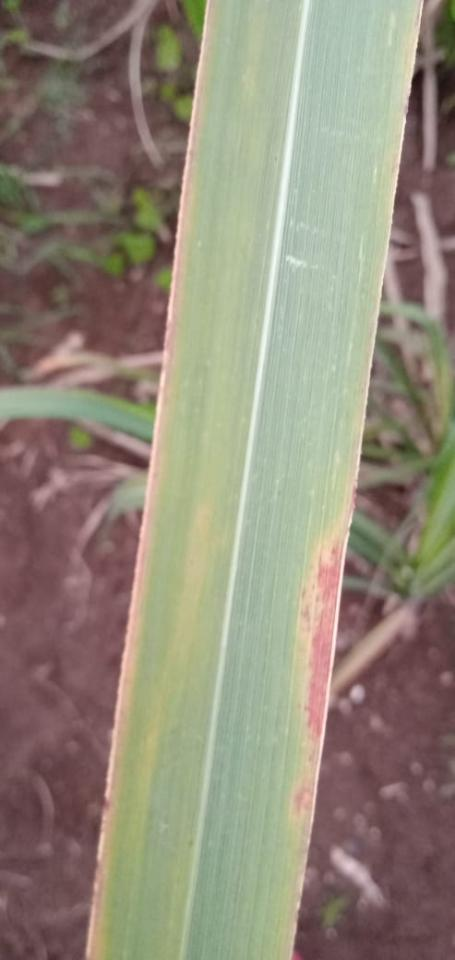Rust: (297, 544, 343, 741), (294, 787, 311, 815), (300, 604, 310, 623), (308, 748, 315, 761), (300, 626, 311, 634), (301, 589, 305, 600), (312, 584, 315, 591), (316, 595, 319, 602)
Yellow: (276, 24, 418, 959), (86, 0, 222, 959), (124, 492, 219, 851), (148, 842, 191, 959)
